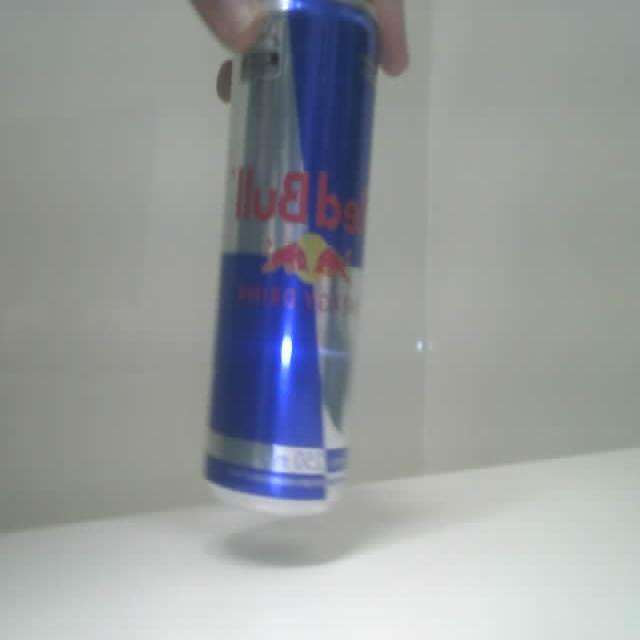redbull can: (206, 0, 377, 513)
